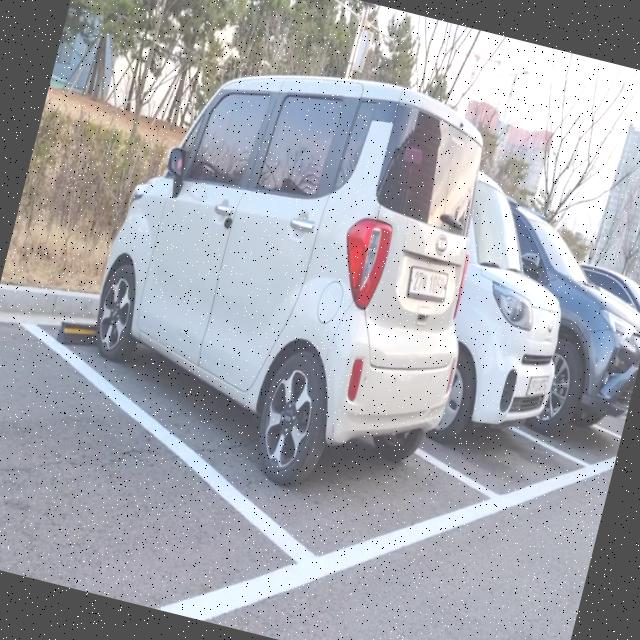occupied: (42, 27, 520, 574), (401, 242, 611, 526), (516, 270, 640, 480)
